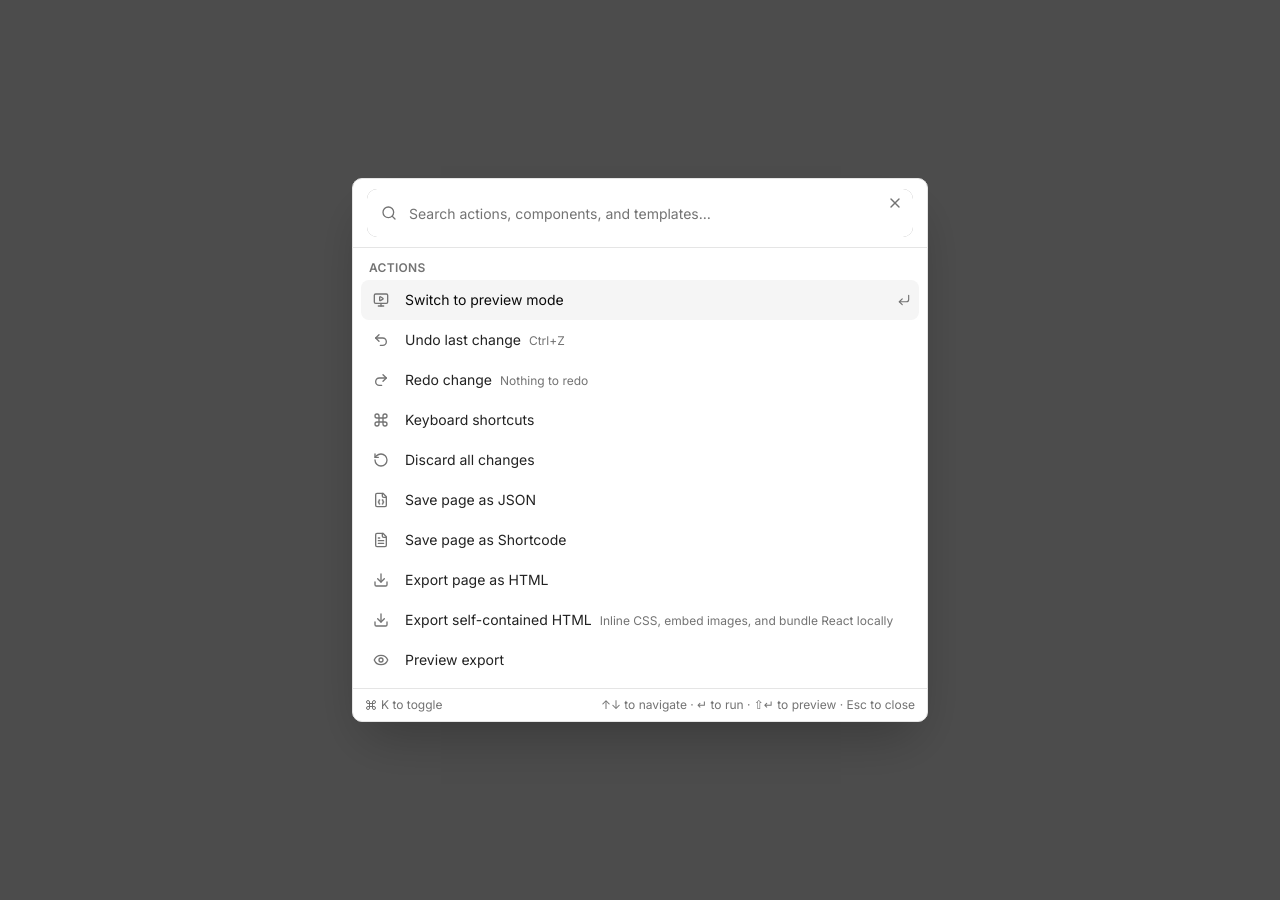
Test: CommandPalette › keeps the insert-component filter independent from the global search
The image size is (1280, 900).
Type "header" into the field with placeholder "Search actions, components, and templates…" at (640, 213), box [369,191,911,235]
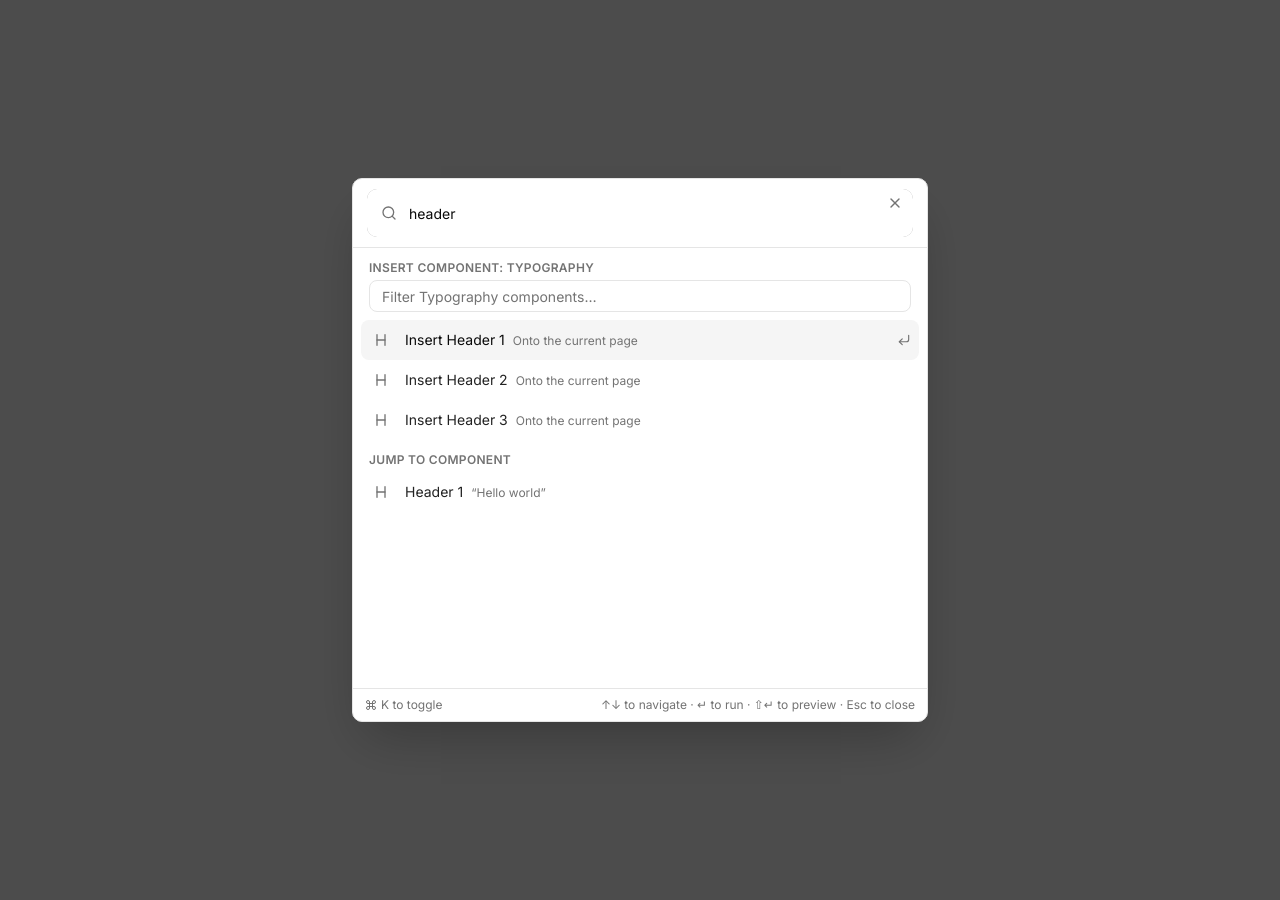
Check: the text "Insert Header 1" is shown, box [405,331,505,348]
Check: the button "Undo last change" is gone
